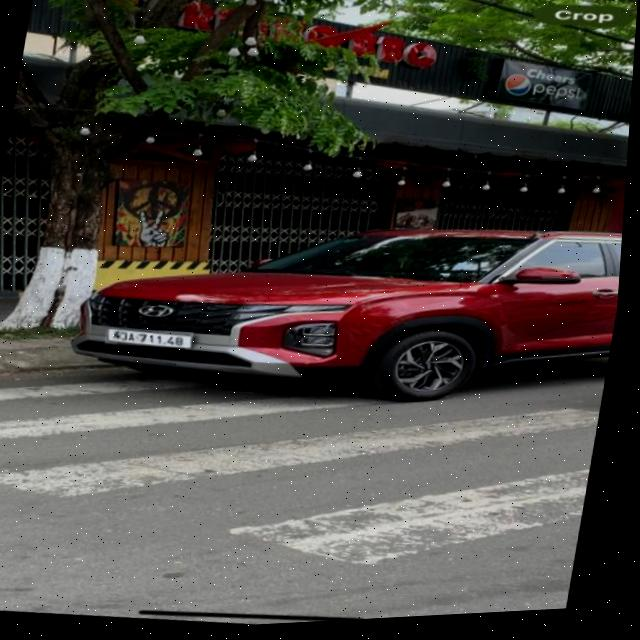car: (50, 169, 627, 450)
plate: (95, 316, 202, 361)
